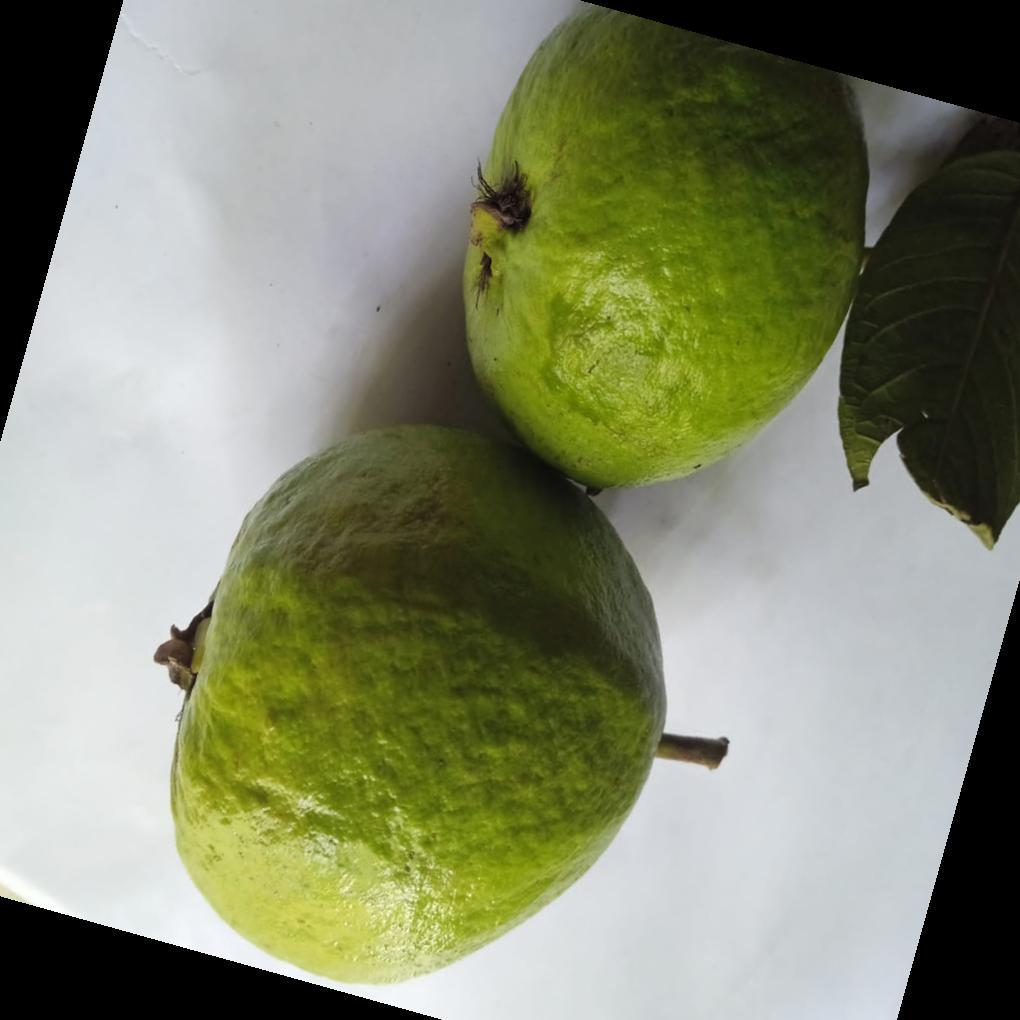FreshGuava: (153, 6, 1020, 990)
